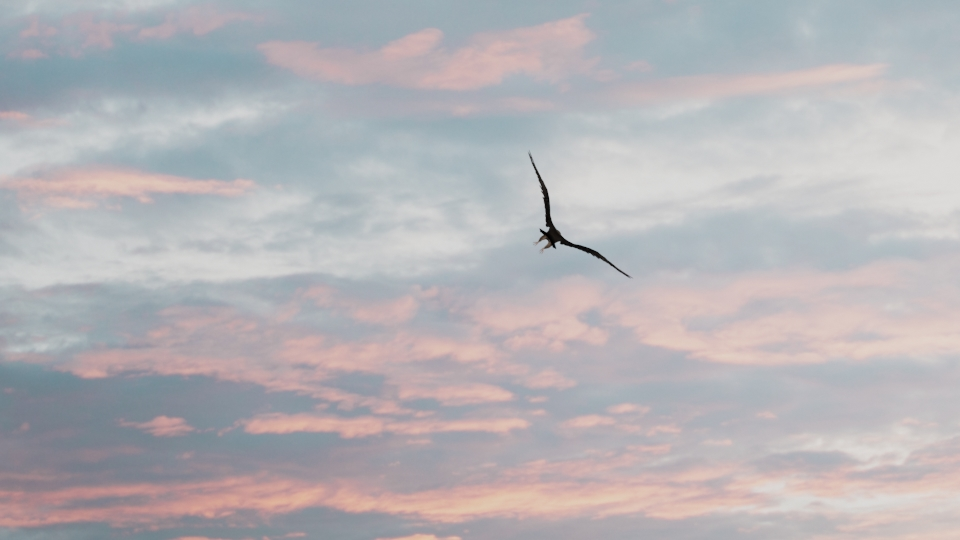bird: (522, 152, 633, 282)
